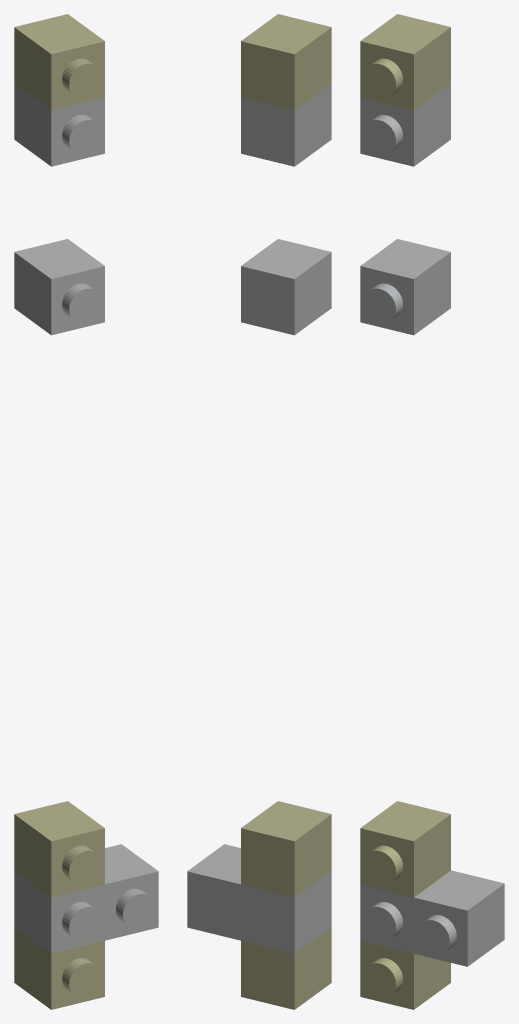
Rendered from current.glb.
3 views of the same model, side by side, from view 1: azimuth 30°, elevation 25°; view 2: azimuth 150°, elevation 25°; view 3: azimuth 330°, elevation 25° (orthographic).
Visible parts, largest first — view 1: world; view 2: world; view 3: world.
Part boxes in pixels (box(x1,y1,x2,y2)): world: box(14, 14, 158, 1009); world: box(187, 14, 331, 1009); world: box(360, 14, 504, 1009).
Bounding box in the file's own units: 16 × 136 × 11.4.
